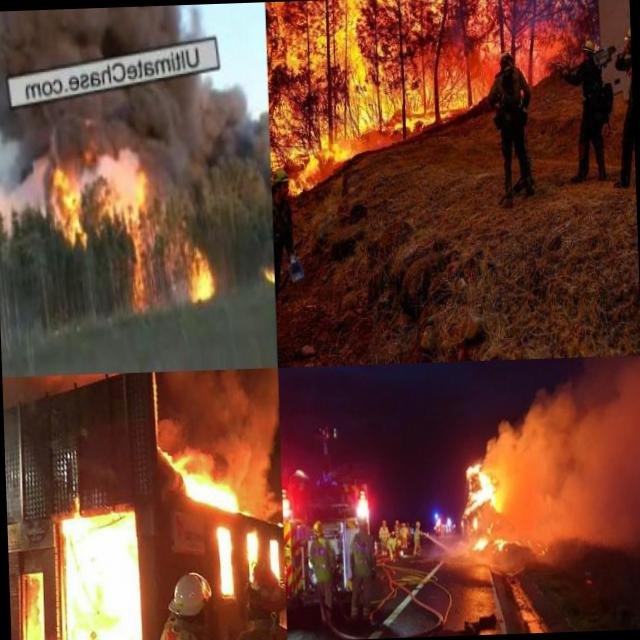fire: (265, 0, 503, 148), (47, 152, 159, 316), (66, 520, 141, 640), (459, 442, 512, 552), (283, 147, 363, 201), (181, 236, 217, 302), (183, 471, 242, 508), (217, 525, 235, 596), (244, 531, 259, 585), (36, 581, 47, 640), (258, 252, 274, 288), (270, 540, 282, 573)
smoke: (487, 355, 640, 550), (49, 100, 233, 170), (157, 367, 280, 463), (236, 367, 283, 528), (2, 372, 140, 422), (0, 130, 51, 231)
